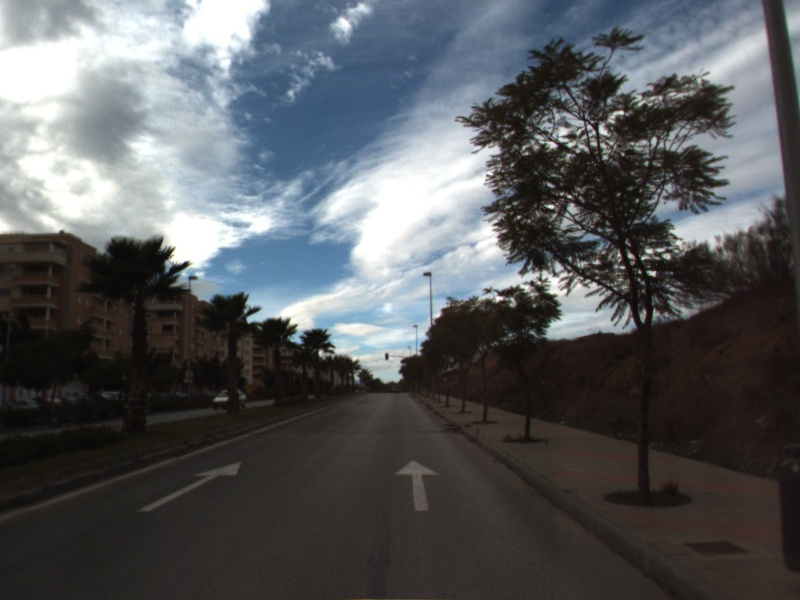STRAIGHT: (134, 459, 244, 514), (393, 458, 441, 513)
